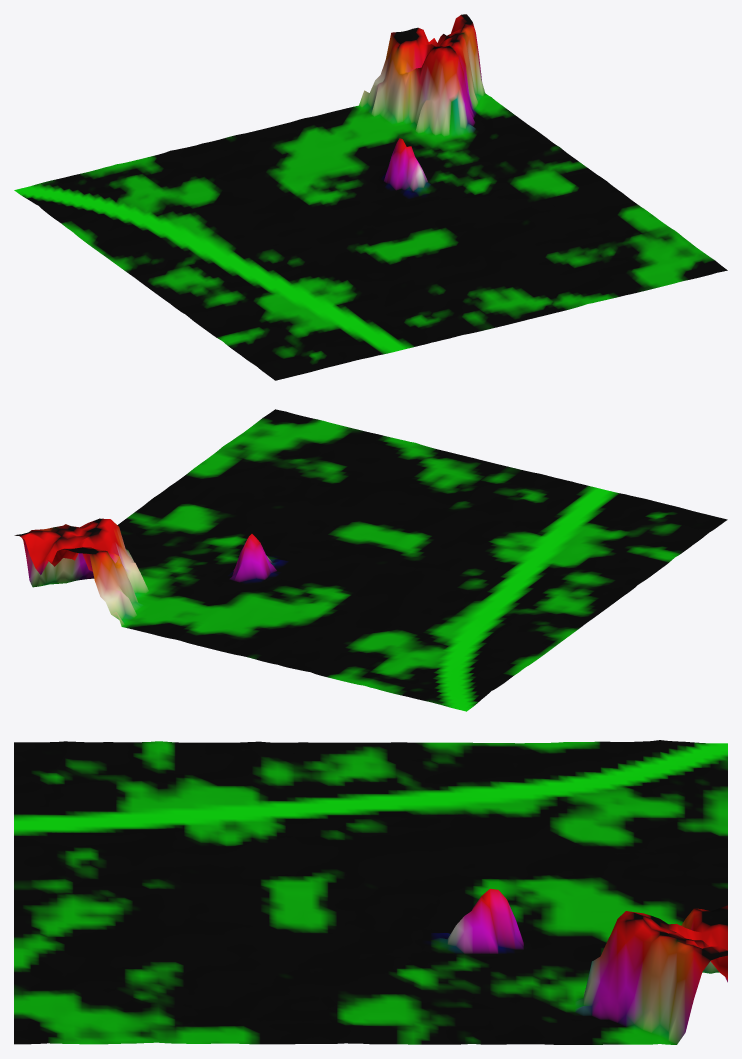
Rendered from SM_AlUla_Terrain_2_3.fbx.
3 views of the same model, one above another, from view 1: azimuth 30°, elevation 25°; view 2: azimuth 150°, elevation 25°; view 3: azimuth 270°, elevation 25° (orthographic). The views are drawn at different scales.
Visible parts, largest first — view 1: SM_AlUla_Terrain_2_3; view 2: SM_AlUla_Terrain_2_3; view 3: SM_AlUla_Terrain_2_3.
Part boxes in pixels (bbox=[...]): SM_AlUla_Terrain_2_3: bbox=[14, 14, 727, 380]; SM_AlUla_Terrain_2_3: bbox=[14, 409, 727, 711]; SM_AlUla_Terrain_2_3: bbox=[14, 740, 727, 1044].
Bounding box in the file's own units: 50400 × 7554 × 50400.
